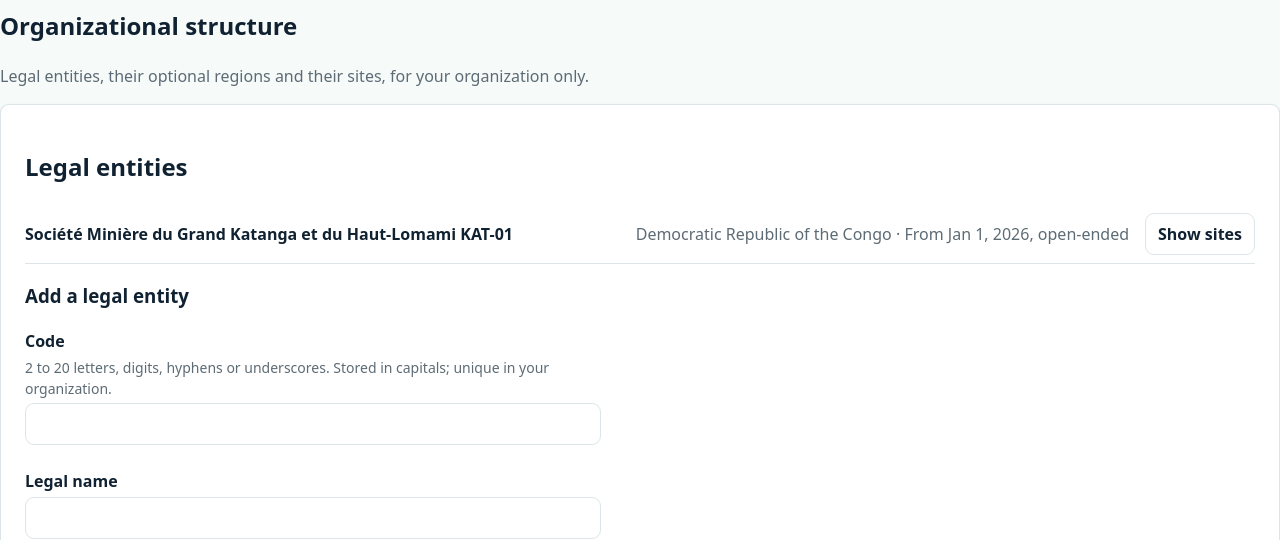
regions and site assignment behaviour › keeps focus on the retry control and announces once when retrying fails again
The width and height of the screenshot is (1280, 540).
Step 1. Click the button "Show sites" → click(1200, 234), box [1145,213,1255,255]
(page scrolled)
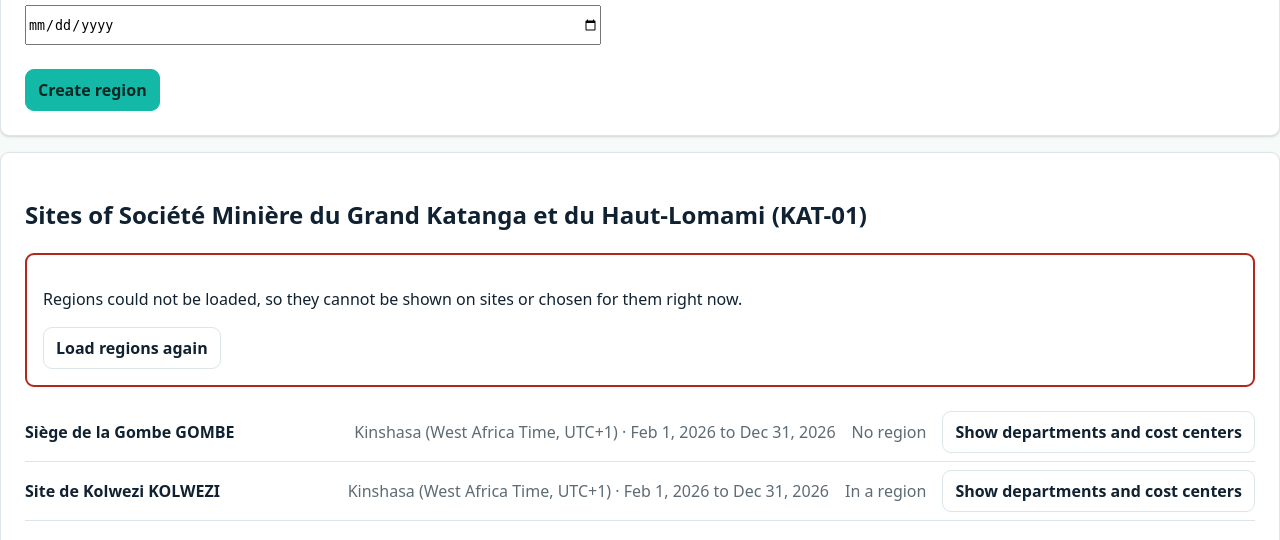
Step 2. Click the button "Load regions again" → click(132, 348), box [43,327,221,369]
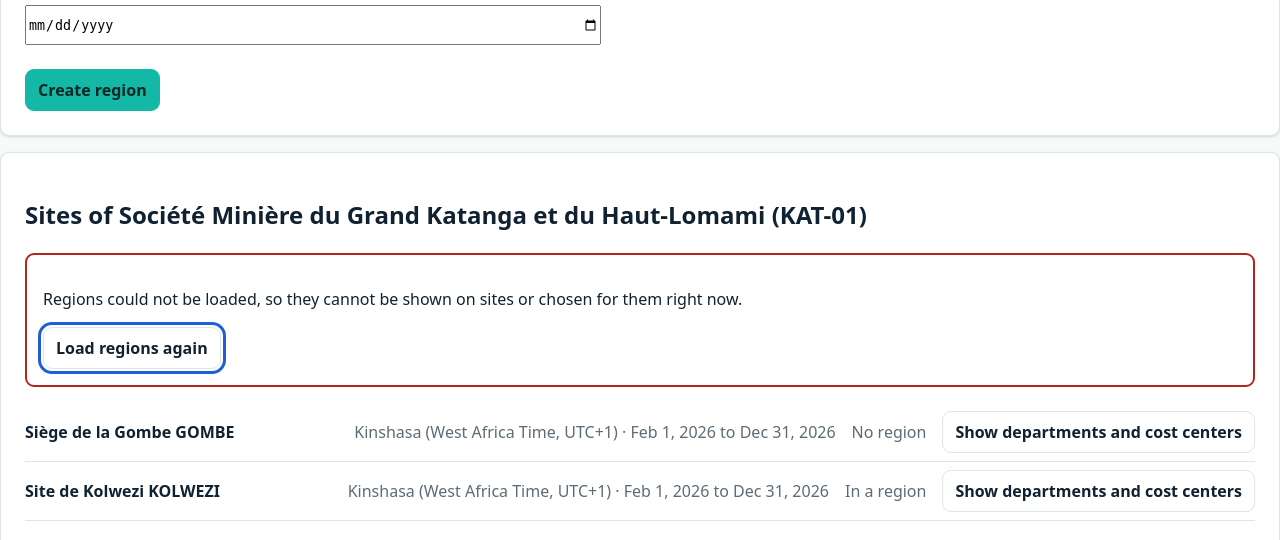
Expected: the field labelled "Region (optional)" is not shown
Expected: the button "Load regions again" is shown
Step 3. Click the button "Load regions again" → click(132, 348), box [43,327,221,369]
(page scrolled)
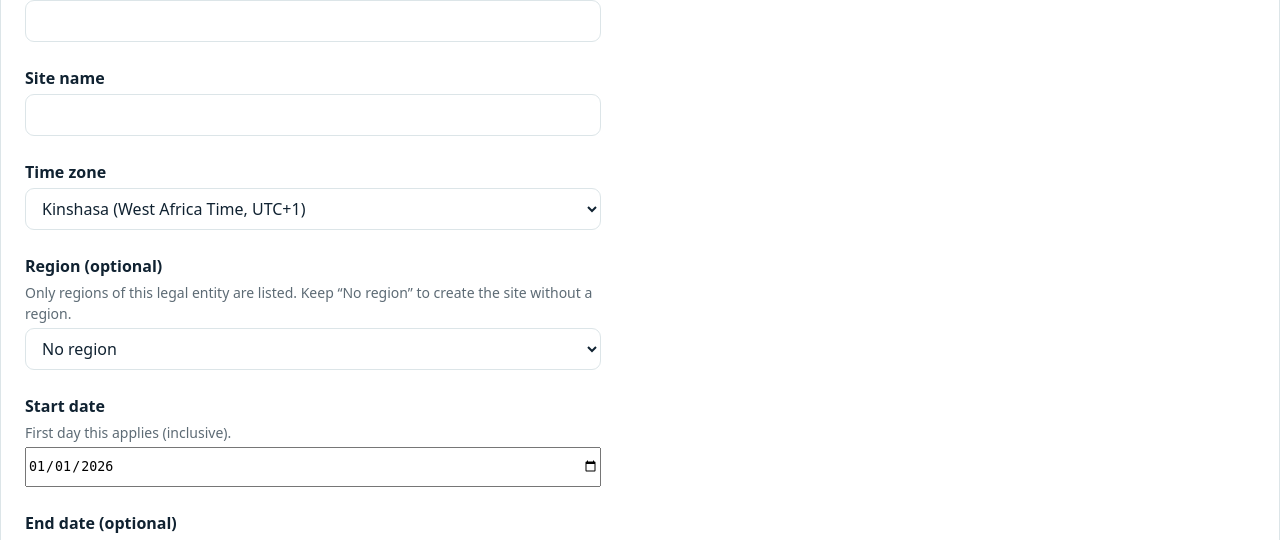
Expected: the element with test id "region-options-error" is gone
Expected: the dropdown labelled "Region (optional)" is shown, [25,328,601,370]
